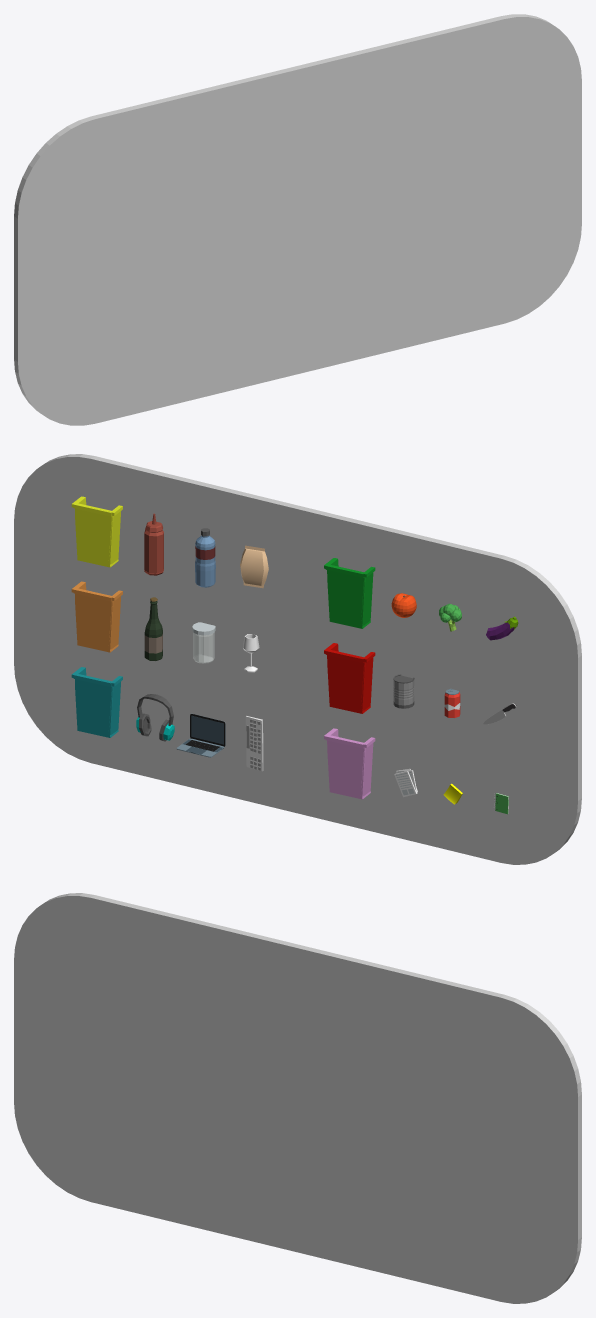
Rendered from plaquette.glb.
3 views of the same model, one above another, from view 1: azimuth 30°, elevation 25°; view 2: azimuth 150°, elevation 25°; view 3: azimuth 330°, elevation 25° (orthographic).
Parts seen in each view (by area): view 1: Cube; view 2: Cube, group954169556.004, group954169556.006, group954169556.003, group954169556.005, group954169556.002, group954169556.001, group485226736, WaterBottle_3, KetchupBottle, bagFlat, group1639888595 (+4 smaller); view 3: Cube.
Part boxes in pixels (bbox=[...]): Cube: bbox=[14, 14, 581, 425]; Cube: bbox=[14, 454, 581, 864]; group954169556.004: bbox=[324, 558, 375, 628]; group954169556.006: bbox=[324, 728, 375, 799]; group954169556.003: bbox=[71, 496, 122, 567]; group954169556.005: bbox=[324, 643, 375, 713]; group954169556.002: bbox=[71, 581, 122, 652]; group954169556.001: bbox=[71, 667, 122, 737]; group485226736: bbox=[176, 713, 225, 757]; WaterBottle_3: bbox=[195, 528, 215, 587]; KetchupBottle: bbox=[144, 513, 163, 575]; bagFlat: bbox=[240, 545, 268, 588]; group1639888595: bbox=[245, 716, 263, 771]; Cube: bbox=[14, 893, 581, 1303].
Size of the model in its own units: 1.97 by 1.01 by 0.1164.
